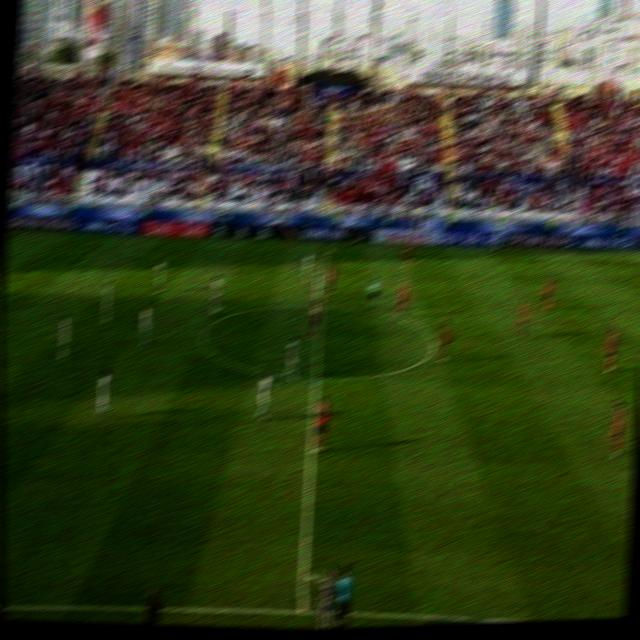halfcircle_bottom: (304, 364, 326, 390)
halfcircle_top: (310, 295, 331, 314)
midline_bottom_intersection: (287, 596, 315, 619)
midline_top_intersection: (318, 239, 334, 253)
